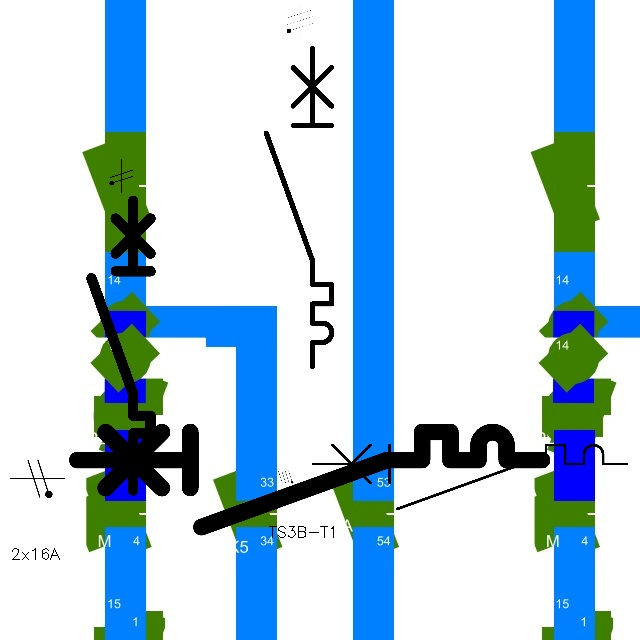interruptor_termomagnetico: (65, 420, 553, 539), (258, 39, 340, 374), (305, 437, 634, 517), (84, 193, 158, 497)
